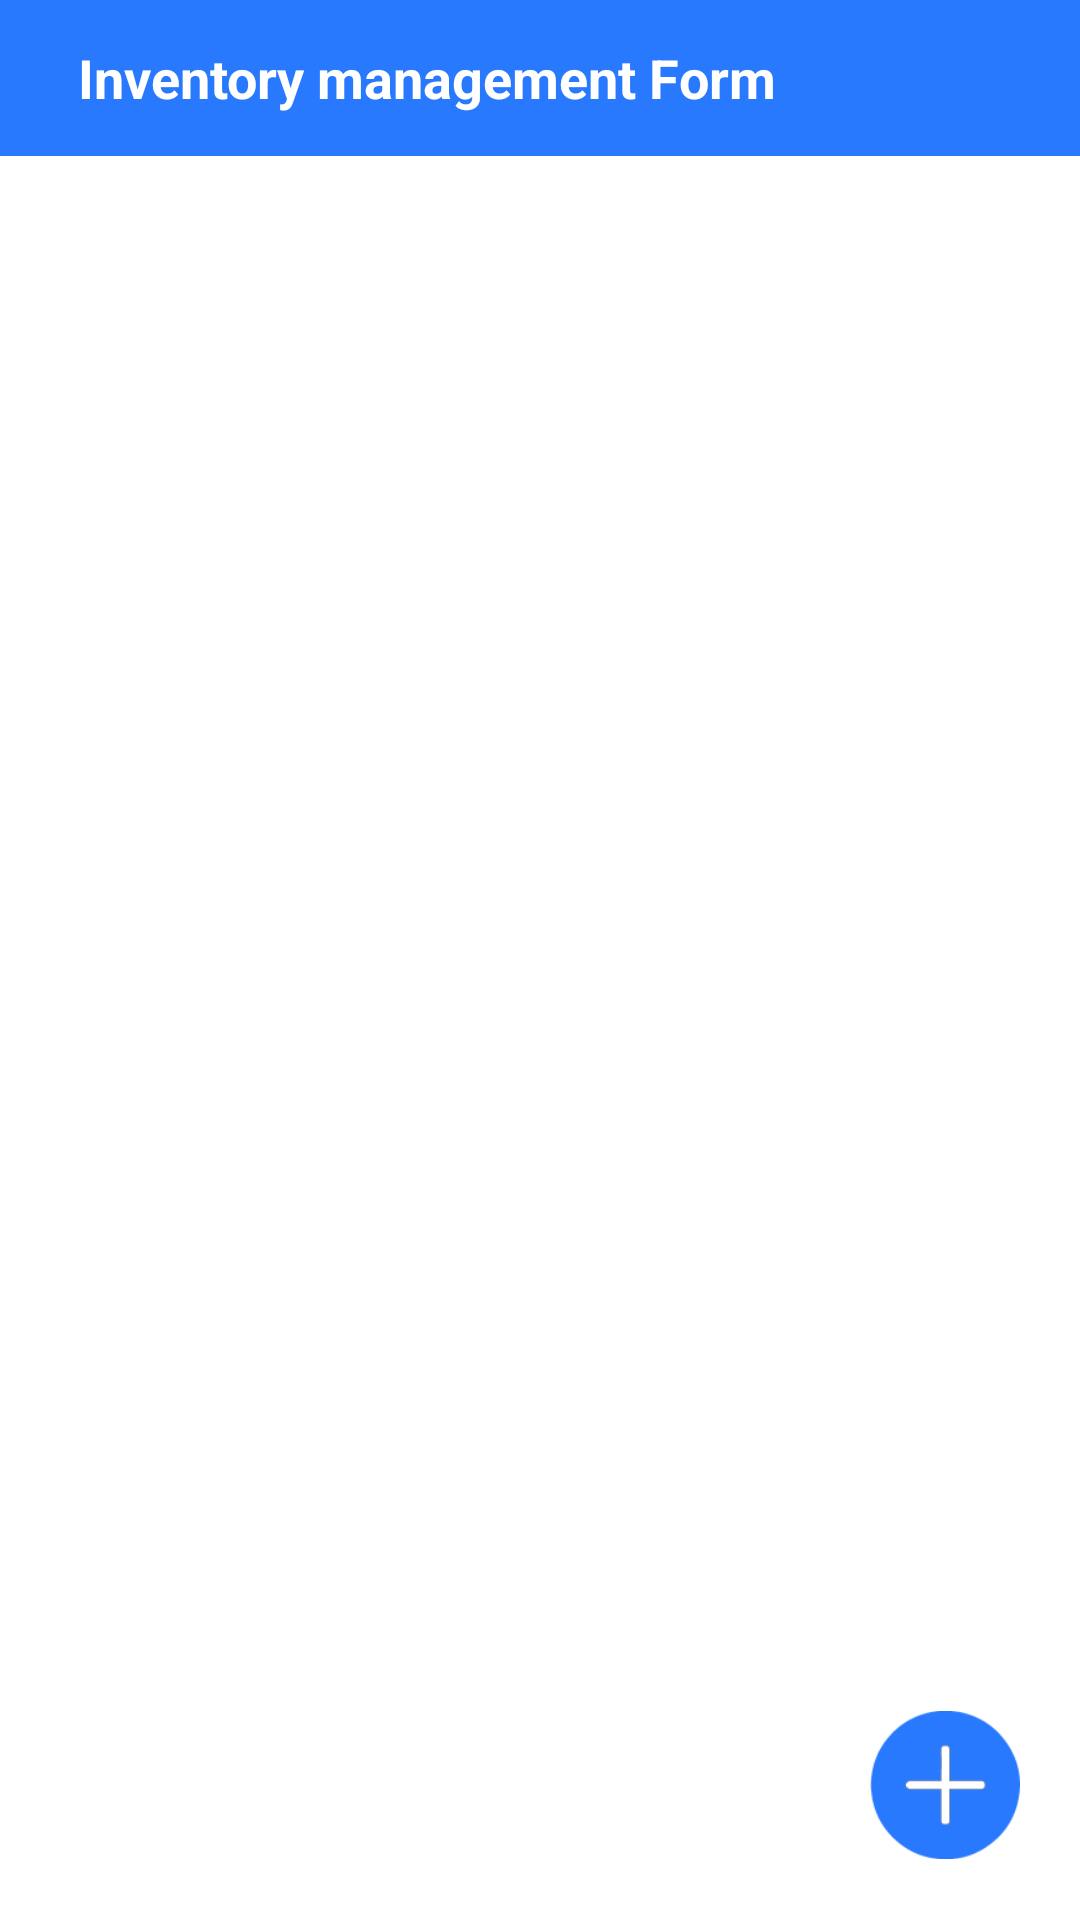

Named icons in this screenshot (1080x1920) and their centers, (x,y):
add circle: (945,1785)
